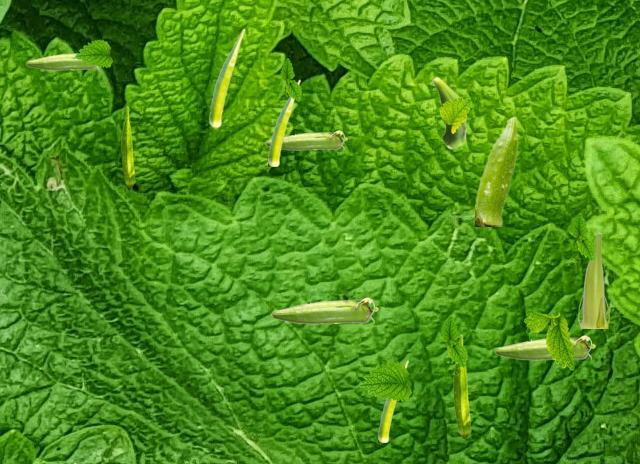okra: (475, 116, 517, 225), (209, 28, 244, 128), (577, 232, 608, 327), (271, 297, 377, 323), (268, 79, 299, 165), (432, 76, 466, 148), (494, 335, 594, 359), (378, 360, 407, 441), (453, 334, 470, 438), (265, 130, 346, 149), (26, 53, 99, 69), (121, 106, 134, 187)
